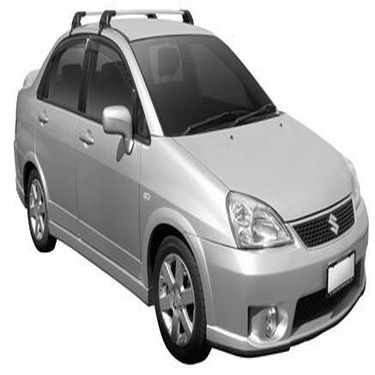car: (2, 3, 369, 364)
